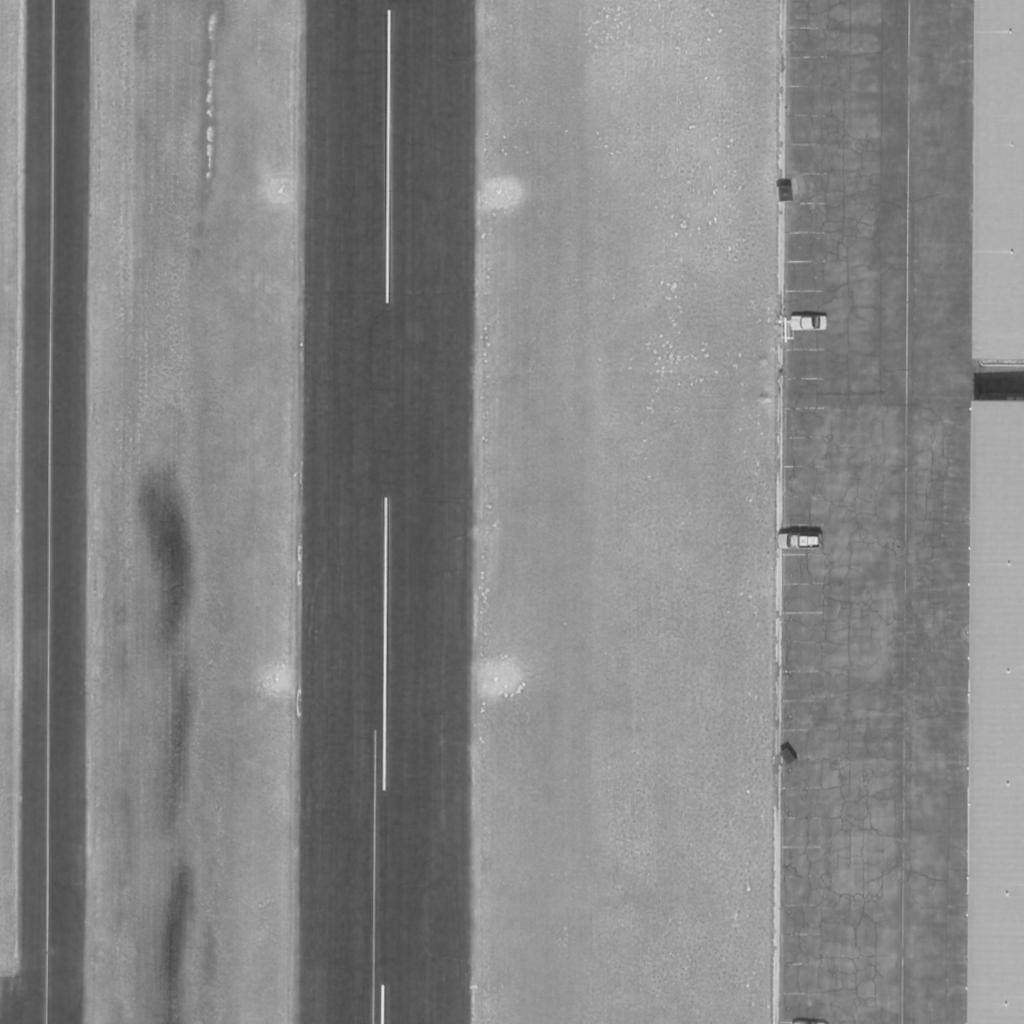vehicle: (774, 531, 824, 553), (787, 315, 829, 331)
